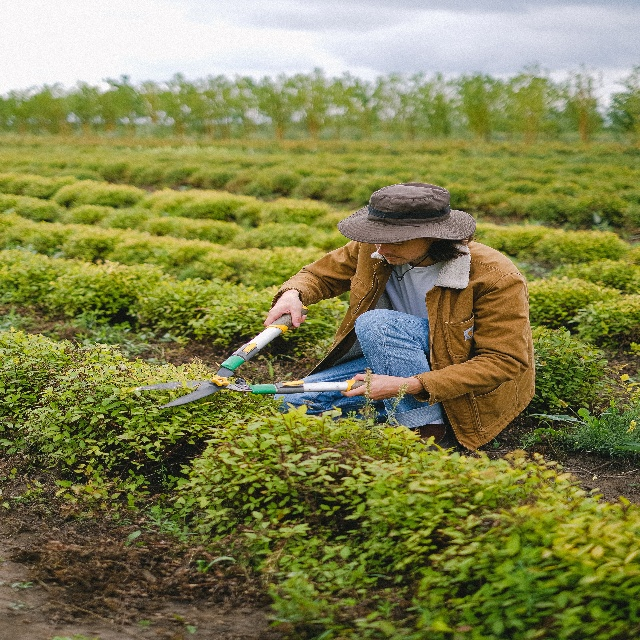Sin_guantes: (263, 290, 307, 329), (341, 373, 402, 401)
